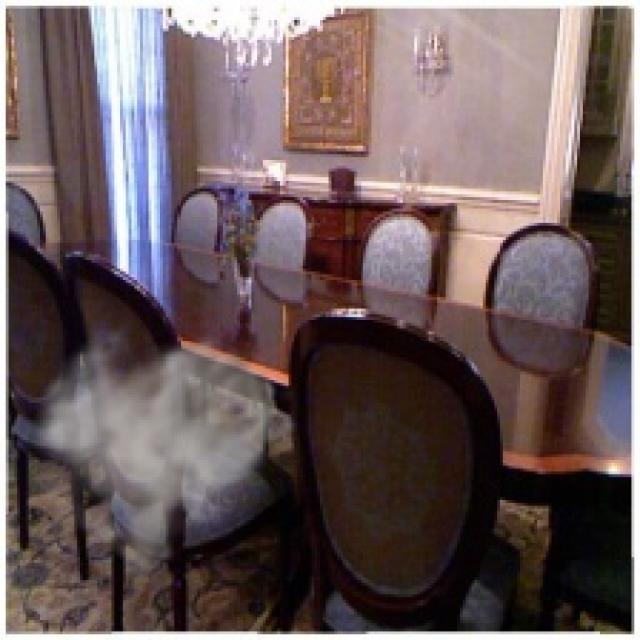smoke: (23, 312, 300, 592)
